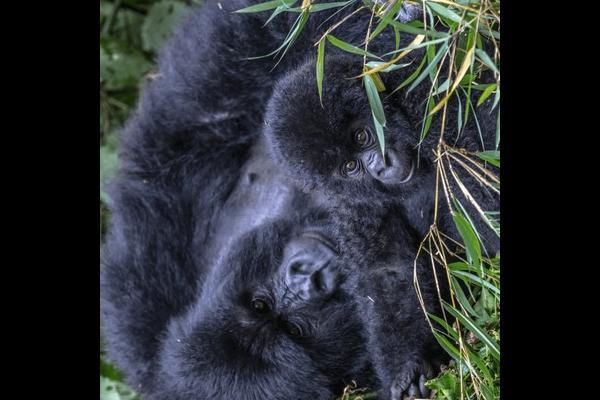goriile_montagne: (100, 0, 490, 400), (270, 25, 497, 244)
